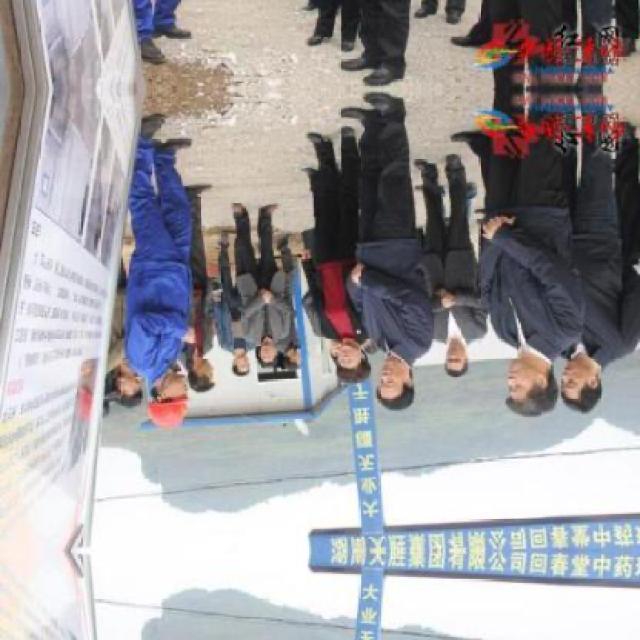con casco: (127, 365, 203, 439)
sin casco: (480, 316, 552, 435), (543, 347, 610, 429), (316, 307, 379, 387), (401, 328, 486, 382), (358, 364, 425, 430), (230, 331, 290, 376)
